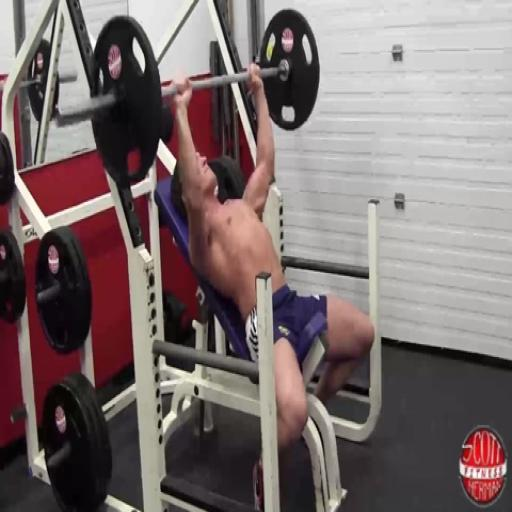exercise: (166, 61, 376, 511)
